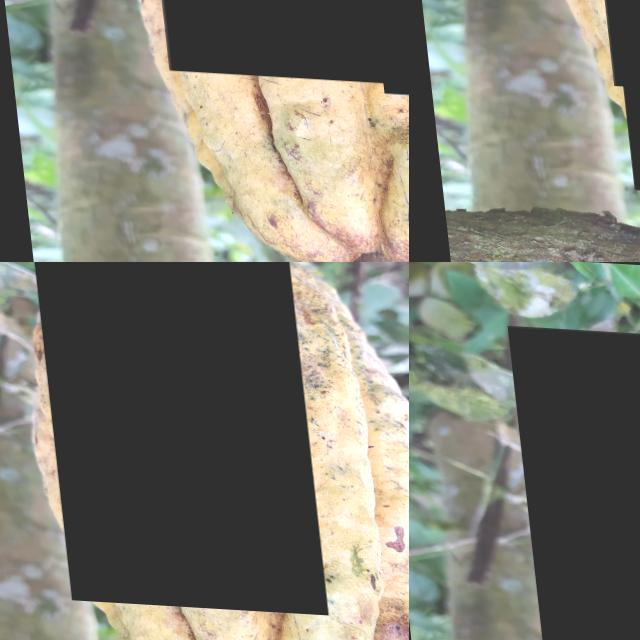Sana: (23, 262, 317, 609), (505, 324, 640, 640), (130, 0, 397, 79), (612, 79, 640, 191)
